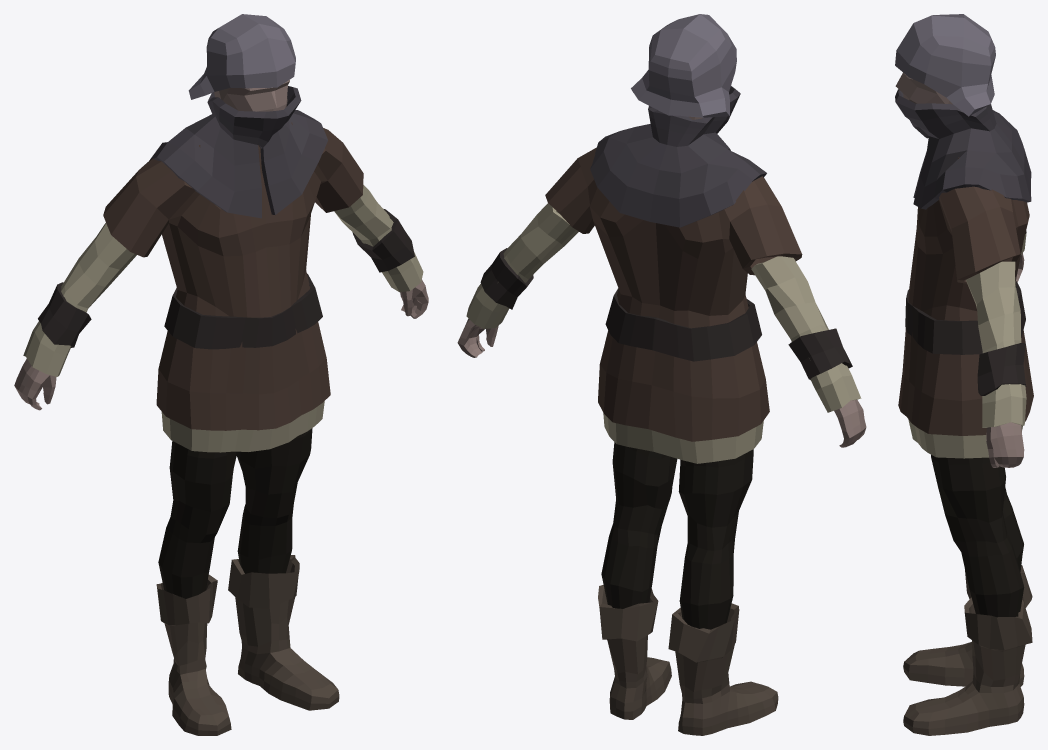
File: human-enemy3-lo.fbx
3 views of the same model, side by side, from view 1: azimuth 30°, elevation 25°; view 2: azimuth 150°, elevation 25°; view 3: azimuth 270°, elevation 25° (orthographic).
Visible parts, largest first — view 1: HumanEnemy2; view 2: HumanEnemy2; view 3: HumanEnemy2.
Boxes of the visible parts, x1,y1,x2,y2 form: HumanEnemy2: (14,14,428,735); HumanEnemy2: (457,14,866,735); HumanEnemy2: (895,14,1033,735).
Bounding box in the file's own units: 1667 × 2720 × 500.
